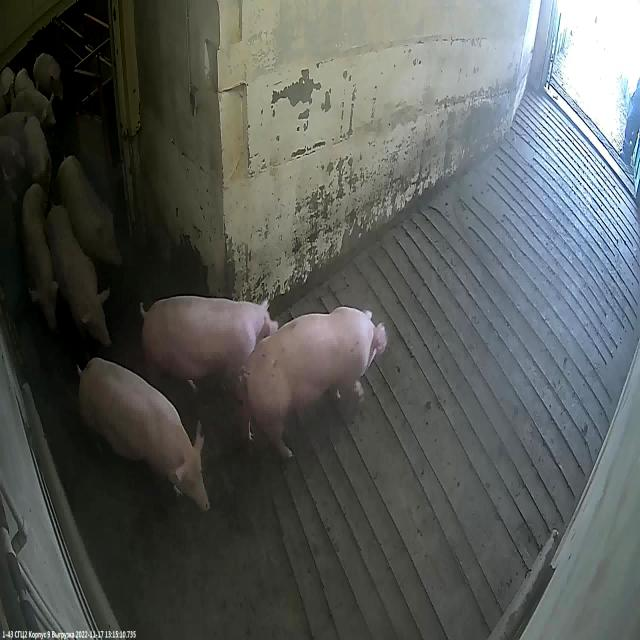pig: (246, 308, 390, 457), (77, 358, 210, 513), (142, 296, 275, 416), (48, 205, 112, 348), (57, 156, 123, 271), (21, 185, 59, 331), (26, 119, 50, 187), (33, 55, 63, 107), (12, 94, 53, 128), (14, 68, 34, 97), (2, 68, 12, 92)
